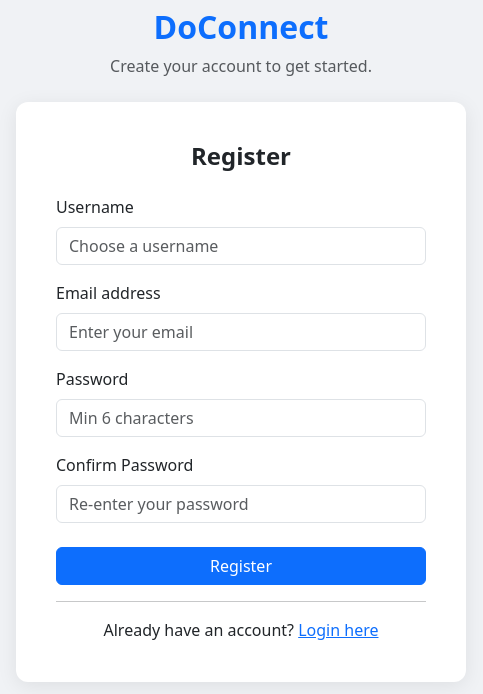
Test: Register Page › shows error when fields are empty
Click the button "Register": (241, 566) x1=56 y1=547 x2=426 y2=585
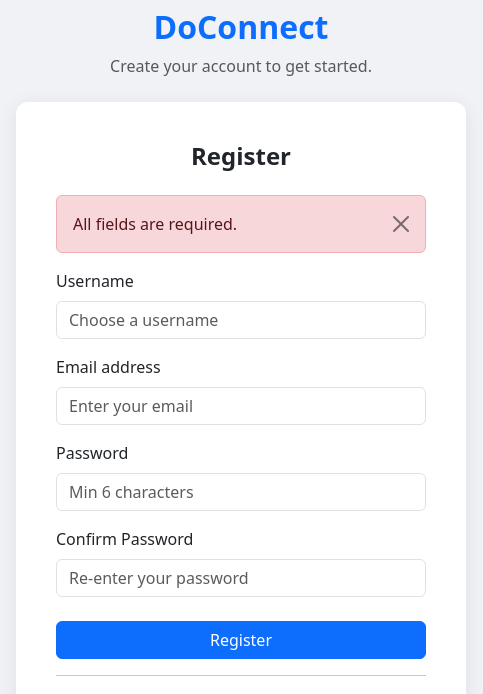
Check: the text "All fields are required." is shown, box x1=56 y1=195 x2=426 y2=253
